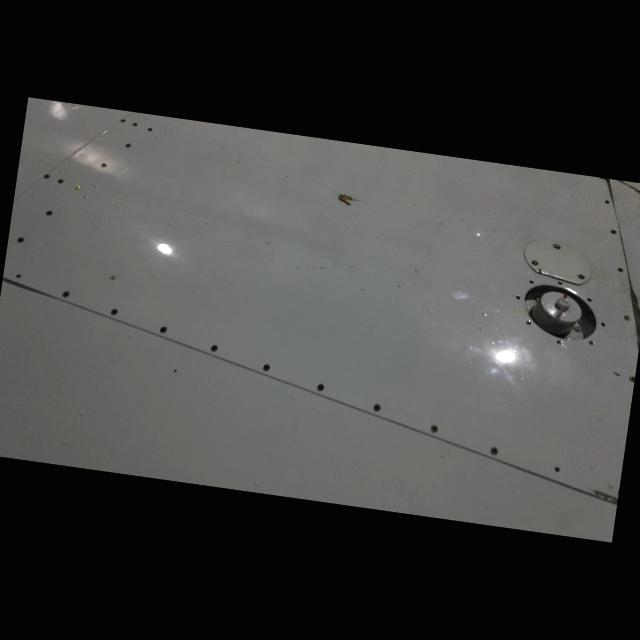Missing Fastener: (548, 458, 570, 479), (548, 336, 564, 350), (555, 276, 568, 289), (512, 293, 524, 306), (584, 338, 596, 350), (12, 270, 24, 281), (522, 317, 533, 329), (585, 296, 596, 306), (599, 318, 607, 331), (527, 277, 536, 287)
dent: (615, 281, 640, 350)
